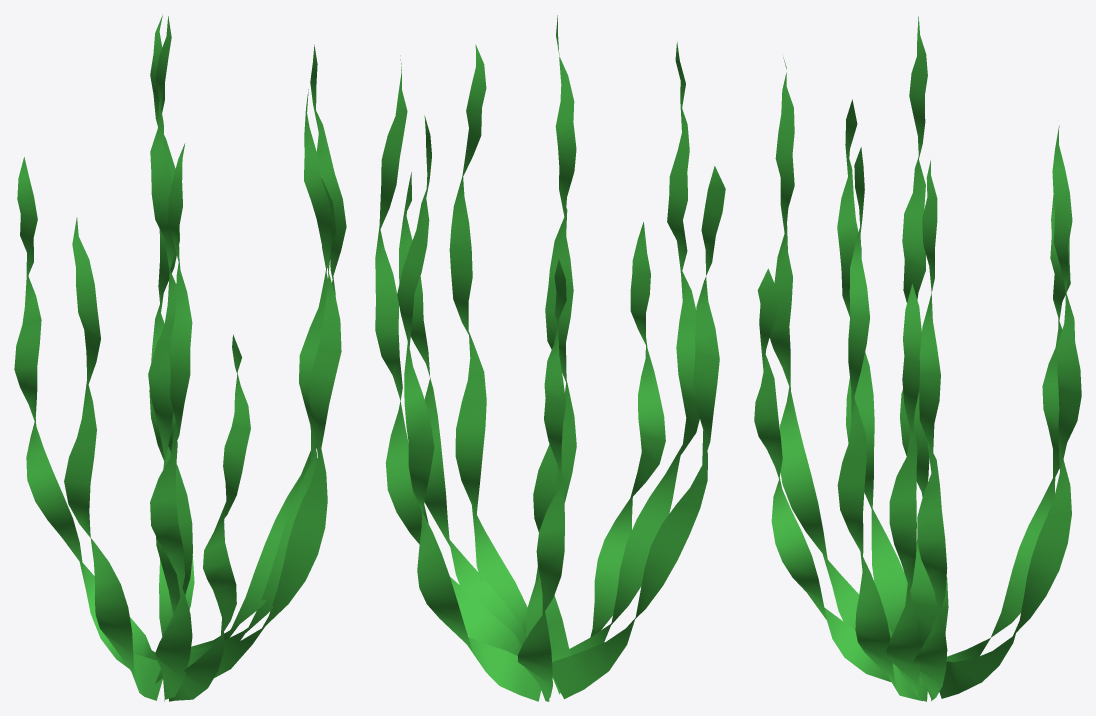
The model's file is coral_kelp_crown_B_light_wiggle.fbx.
The picture shows the model from 3 angles, left to right: view 1: azimuth 30°, elevation 25°; view 2: azimuth 150°, elevation 25°; view 3: azimuth 270°, elevation 25°; orthographic projection.
Parts seen in each view (by area): view 1: coral_kelp_crown_B_light_wiggle; view 2: coral_kelp_crown_B_light_wiggle; view 3: coral_kelp_crown_B_light_wiggle.
Boxes of the visible parts, x1,y1,x2,y2 form: coral_kelp_crown_B_light_wiggle: (14,14,346,701); coral_kelp_crown_B_light_wiggle: (375,15,725,701); coral_kelp_crown_B_light_wiggle: (754,16,1081,701).
Size of the model in its own units: 53.47 by 113 by 49.04.
